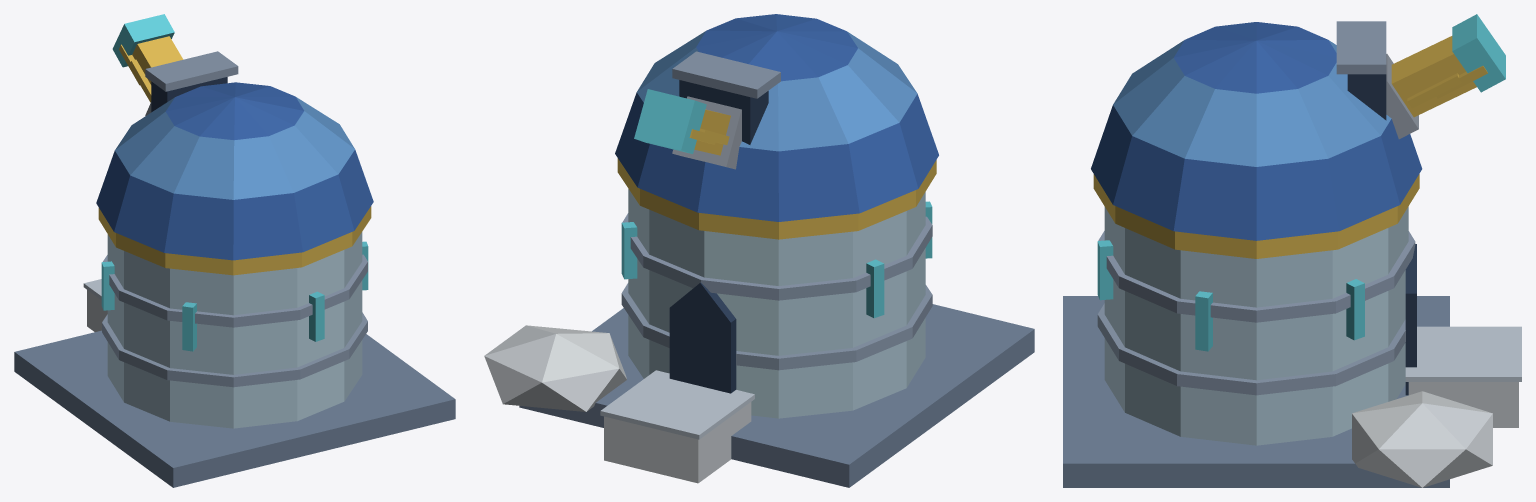
Rendered from Decor_IcePalace_Observatory.fbx.
3 renders of one model, left to right at view 1: azimuth 30°, elevation 25°; view 2: azimuth 150°, elevation 25°; view 3: azimuth 270°, elevation 25°, orthographic. The views are drawn at different scales.
Visible parts, largest first — view 1: Observatory_Body; view 2: Observatory_Body; view 3: Observatory_Body.
Boxes of the visible parts, bbox=[...] form: Observatory_Body: bbox=[14, 14, 455, 487]; Observatory_Body: bbox=[484, 14, 1034, 487]; Observatory_Body: bbox=[1063, 14, 1521, 487].
Bounding box in the file's own units: 16 × 15 × 16.5.
